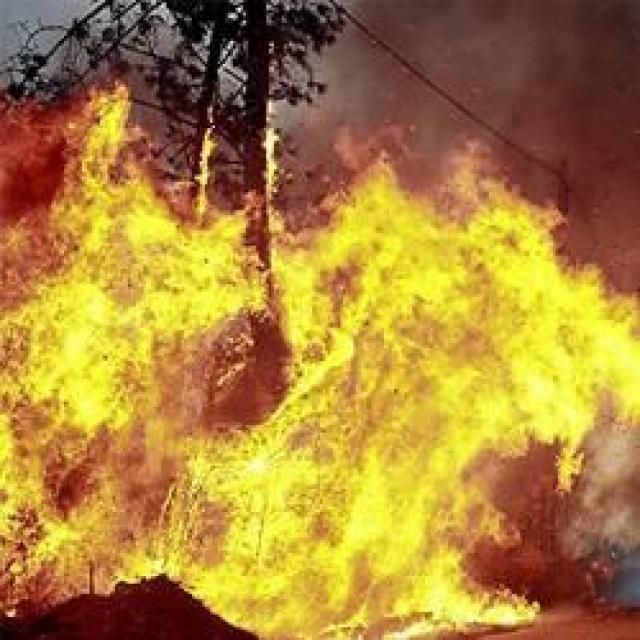Fire: (267, 153, 640, 630), (0, 79, 266, 599)
Smoke: (321, 3, 640, 128)
